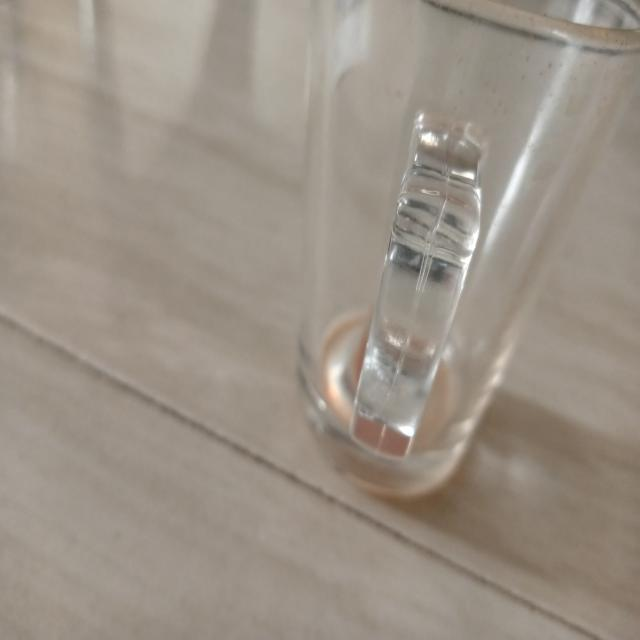glass-VX4N: (291, 4, 640, 501)
